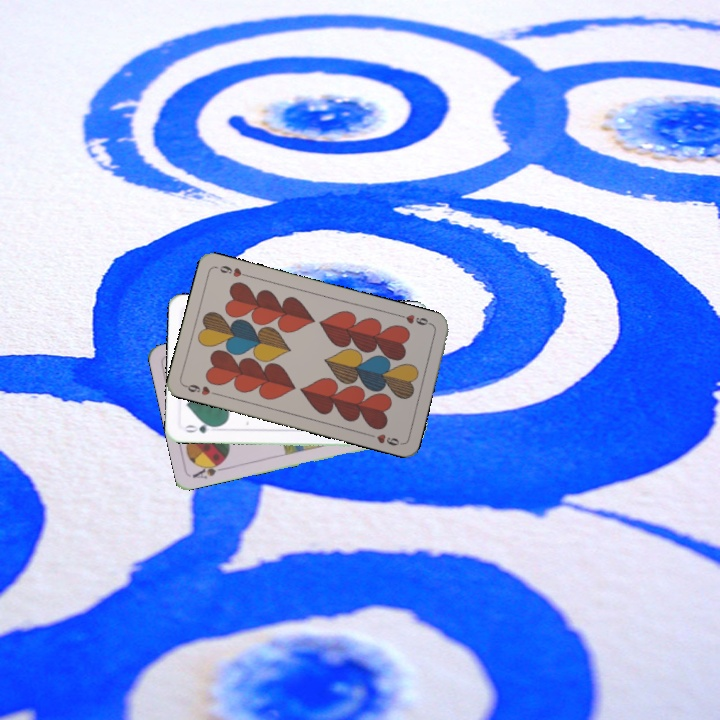GO: (179, 419, 220, 436)
H9: (181, 380, 221, 398), (395, 310, 435, 328)
SA: (189, 457, 229, 481)
